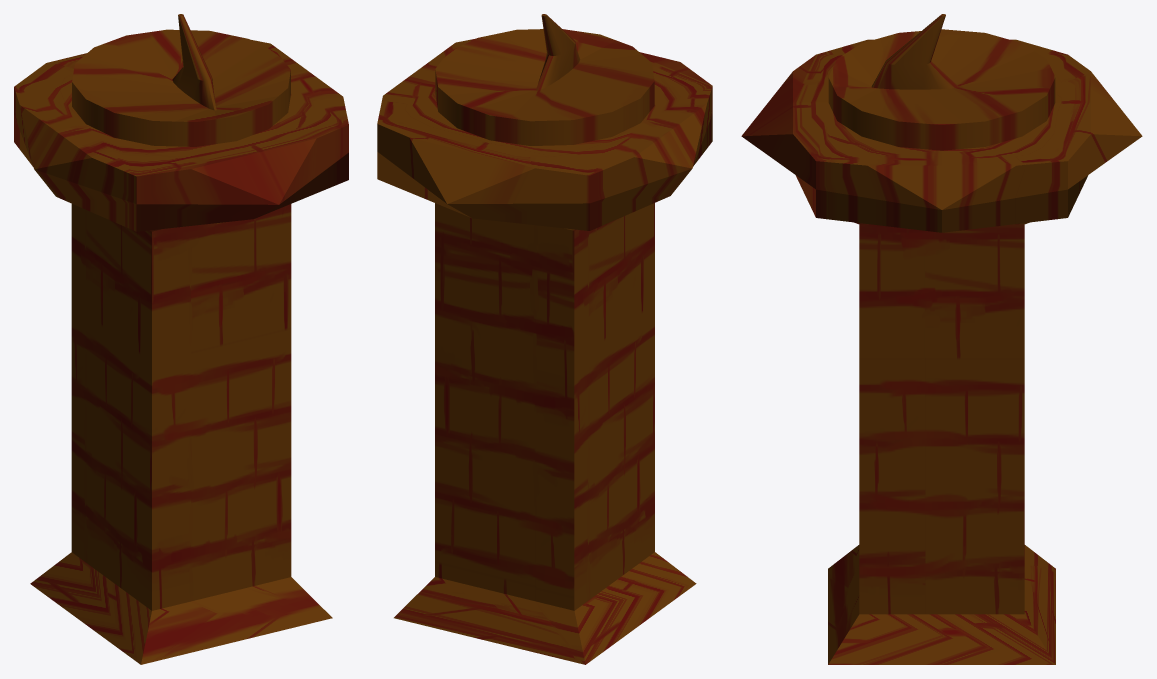
Rendered from Sun Dial Decoration.fbx.
3 views of the same model, side by side, from view 1: azimuth 30°, elevation 25°; view 2: azimuth 150°, elevation 25°; view 3: azimuth 270°, elevation 25° (orthographic). The views are drawn at different scales.
Parts seen in each view (by area): view 1: pCube2; view 2: pCube2; view 3: pCube2.
Boxes of the visible parts, x1,y1,x2,y2 form: pCube2: (14, 14, 348, 664); pCube2: (377, 14, 712, 664); pCube2: (741, 14, 1142, 664).
Bounding box in the file's own units: 69.36 × 132 × 79.62.
Materials: 1 (1 with a texture image).
